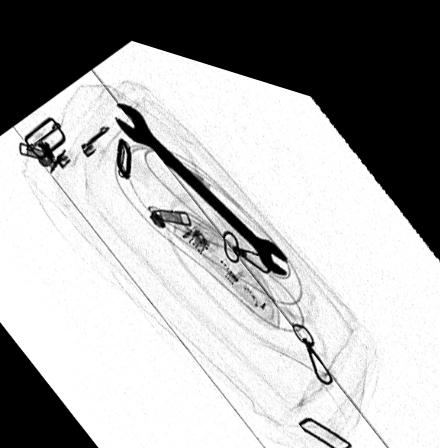Wrench: (112, 94, 287, 260)
